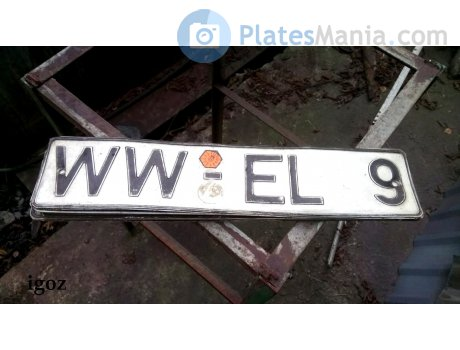License Plates: (60, 146, 403, 206)
